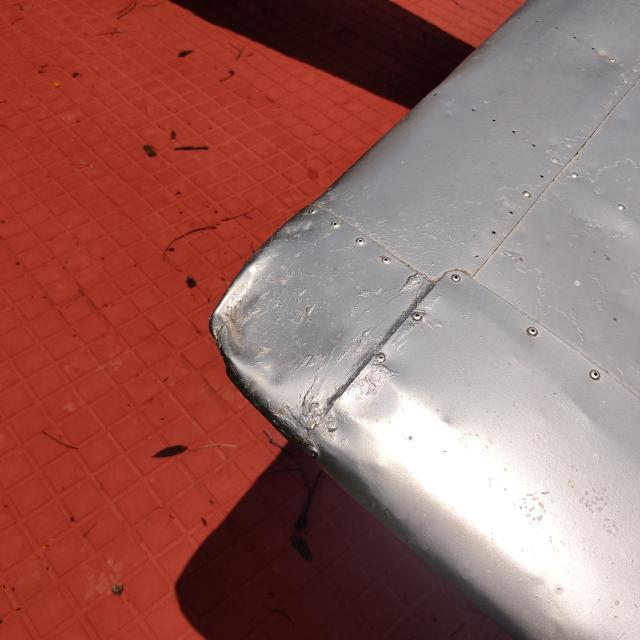dent: (184, 235, 327, 393)
